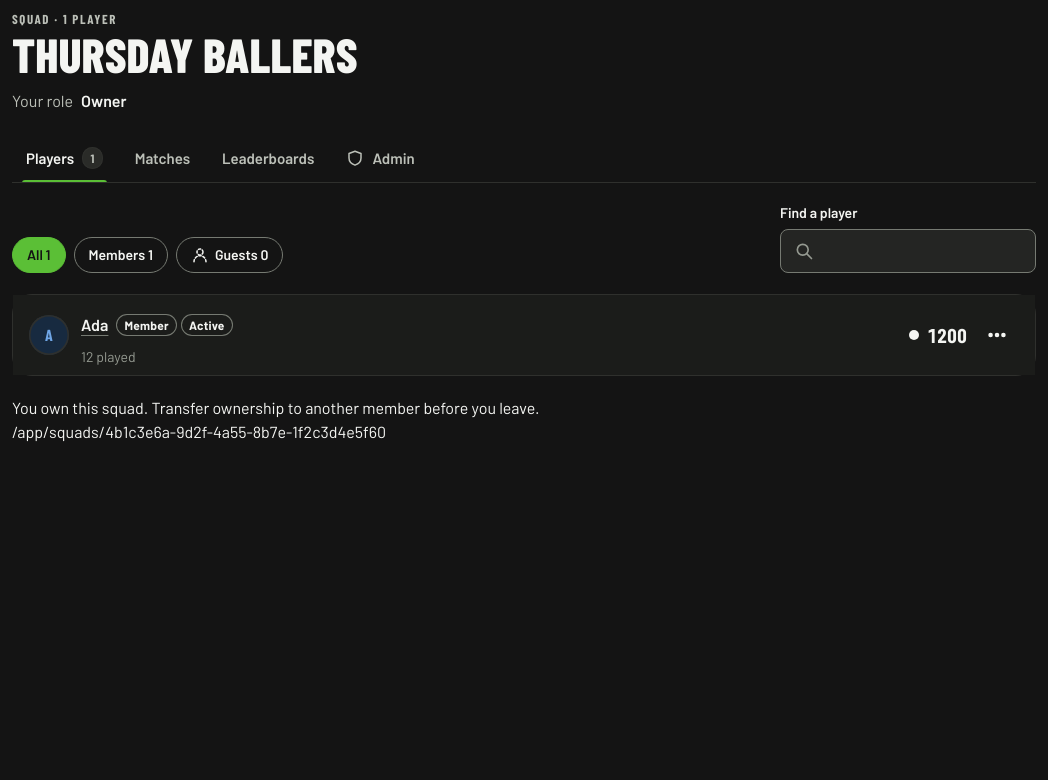
Scenario: SquadScreen — the states of the detail slot › renders the parsed Squad_Name as its one level-one heading, and each tab its own section
The image size is (1048, 780).
Expected: the heading "Thursday Ballers" is shown, [12,25,358,83]
Click the link "Players 1": (64, 158) [12,134,117,182]
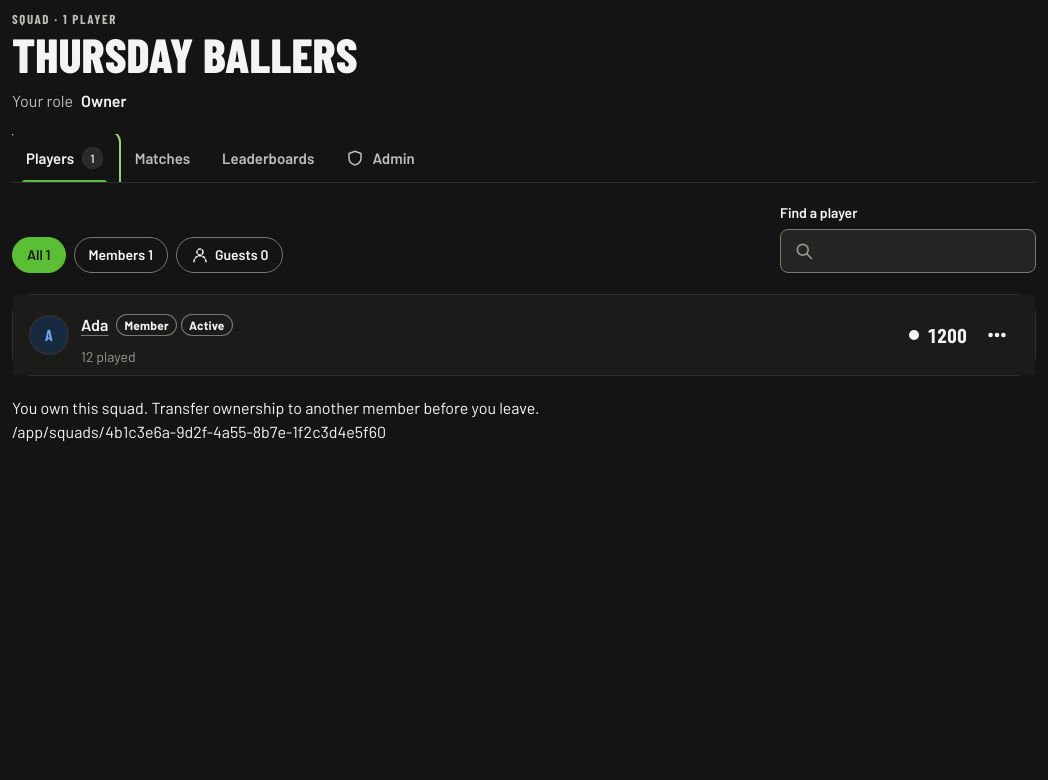
Click the link "Matches": (162, 158) [135,149,190,167]
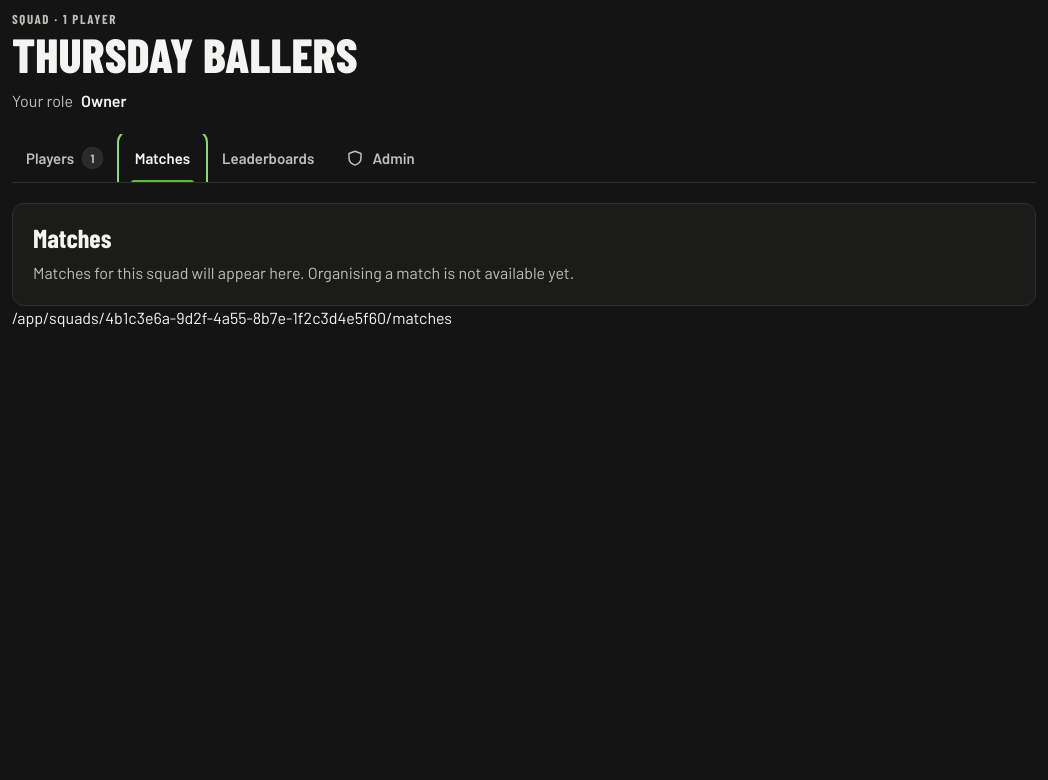
Now the heading "Matches" is shown, box [33,222,111,253]
Click the link "Leaderboards": (268, 158) [222,149,314,167]
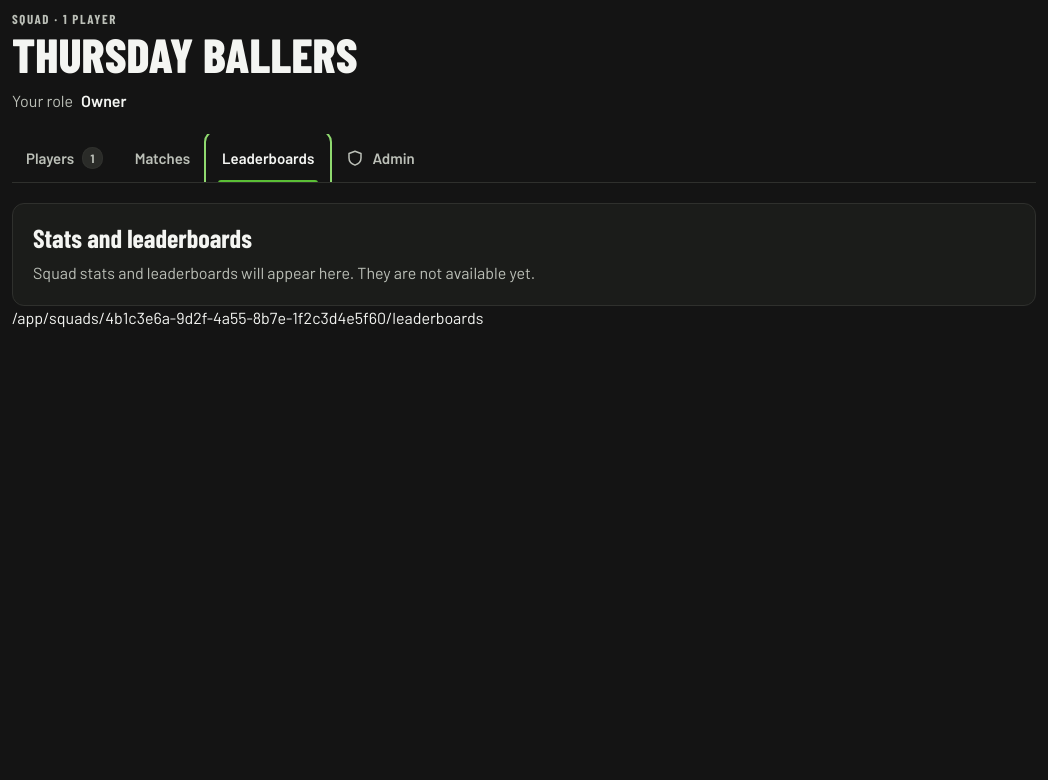
Now the heading "Stats and leaderboards" is shown, box [33,222,252,253]
Click the link "Admin": (381, 158) [346,149,415,167]
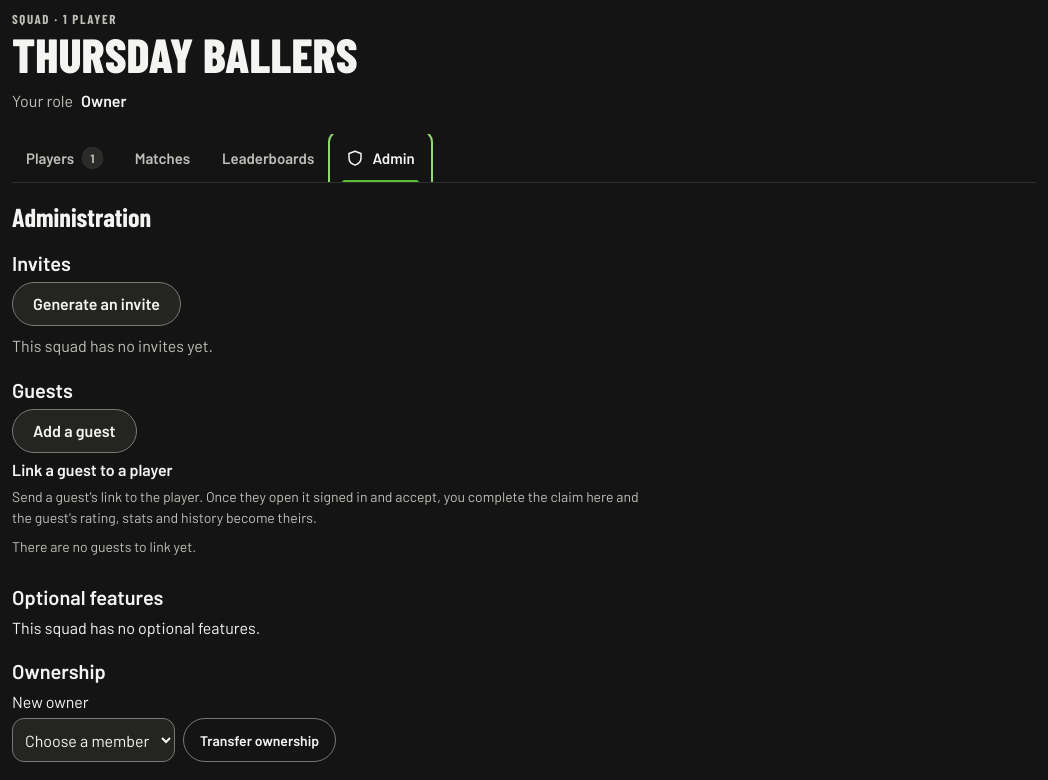
Now the heading "Administration" is shown, box [12,201,151,232]
